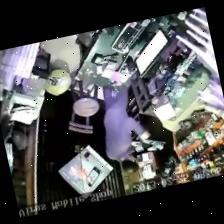person: (103, 86, 150, 172), (145, 115, 179, 177)
